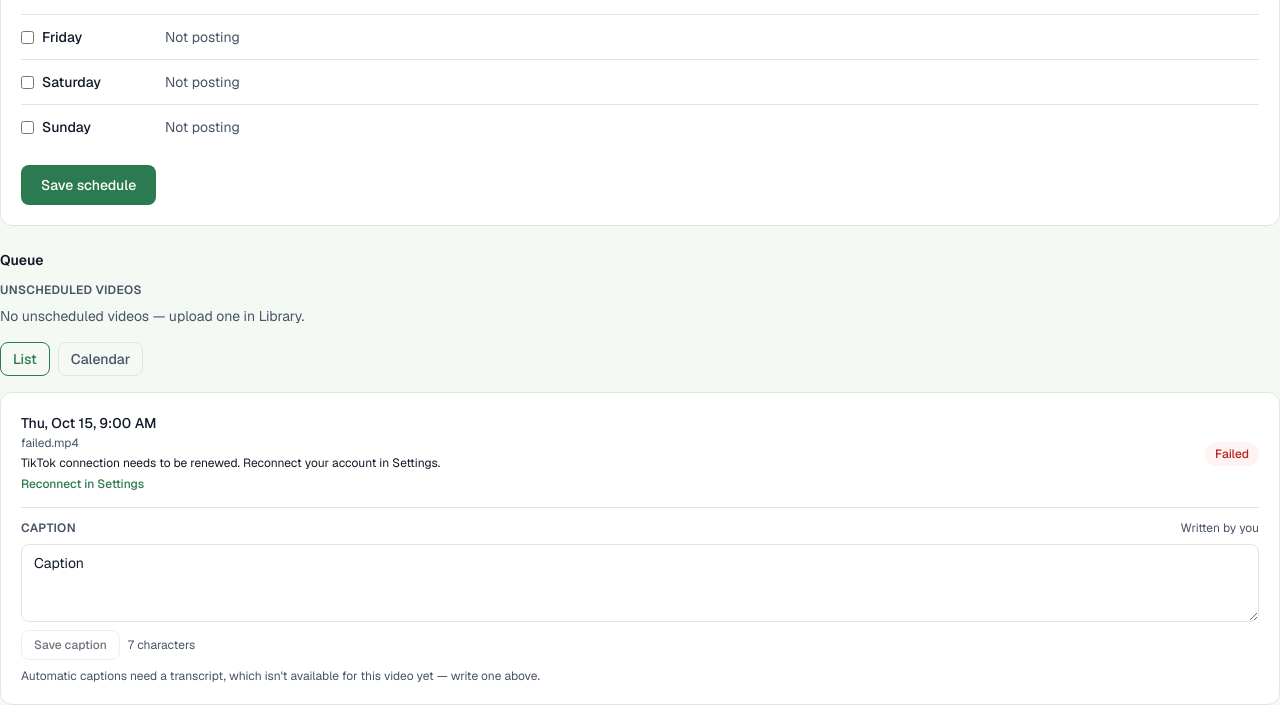
Test: QueuePage — Queue (list/calendar, assign/unassign) › shows the same status in list and calendar views
This screenshot has width=1280, height=705.
(page scrolled)
expect the text "Failed" is shown: met, box [1205,442,1259,466]
Click the button "Calendar": (101,359) [58,342,143,376]
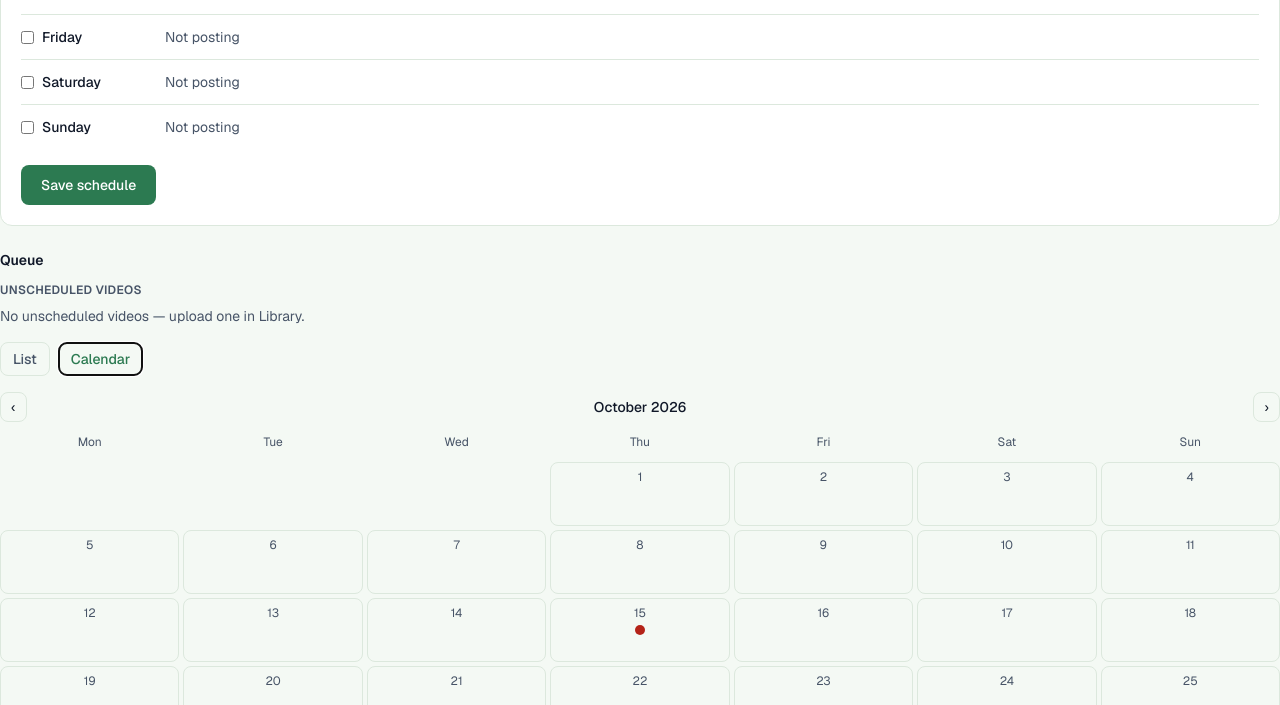
Click the button named ", failed": (640,630) [635,625,645,635]
(page scrolled)
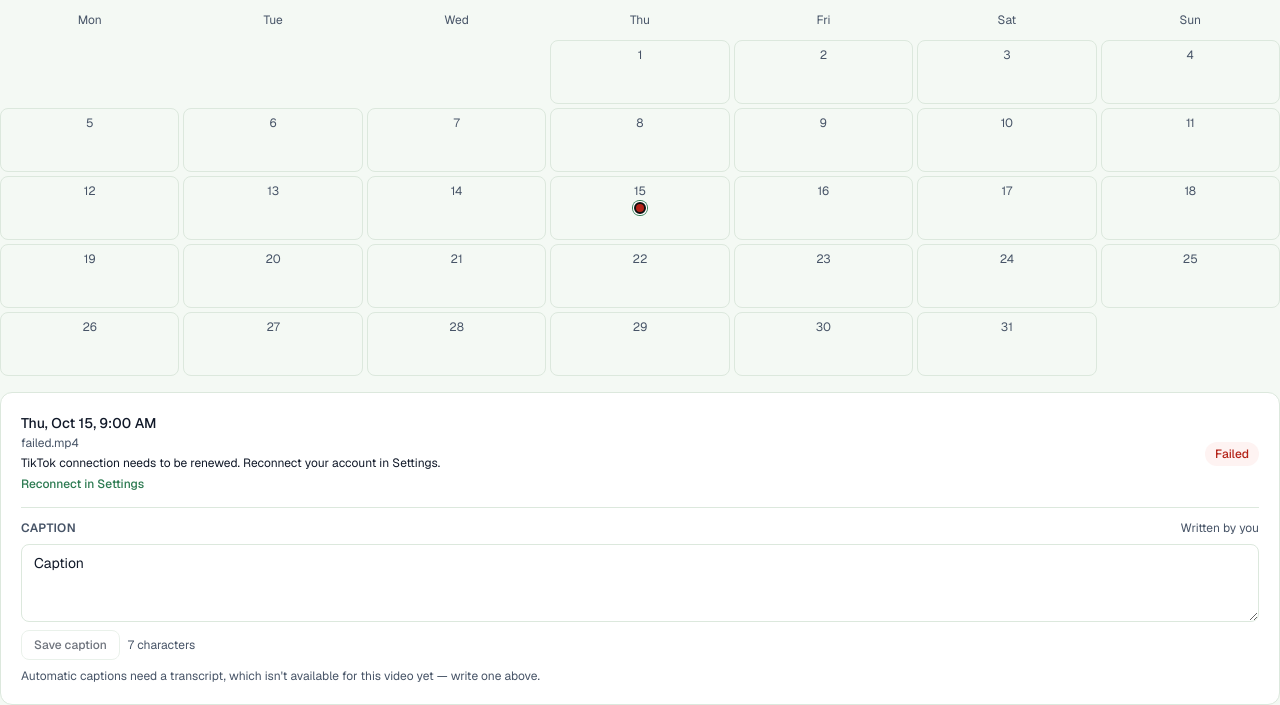
expect the text "Failed" is shown: met, box [1205,442,1259,466]
expect the text "TikTok connection needs to be renewed. Reconnect your account in Settings." is shown: met, box [21,455,440,471]
